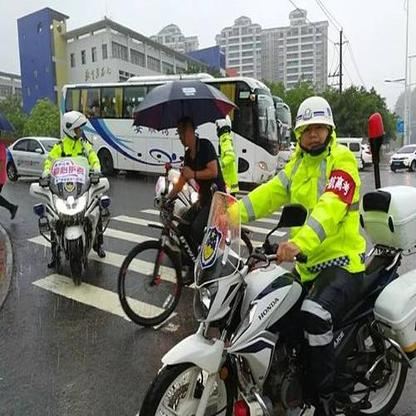target: (153, 94, 411, 408), (26, 106, 114, 288)
